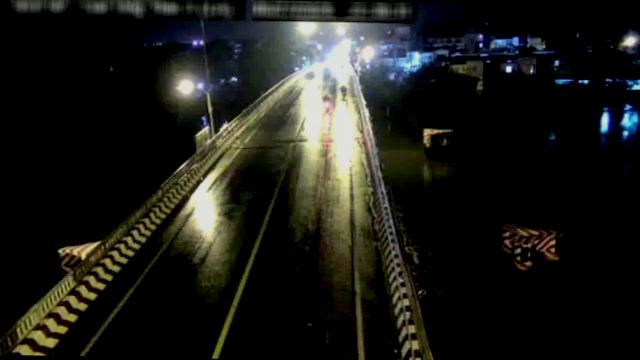Bike: (320, 93, 330, 110), (338, 83, 347, 100)
